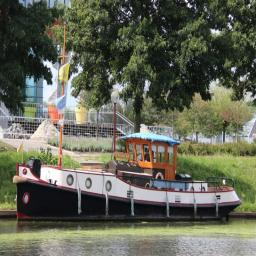tugboat: (13, 131, 244, 234)
